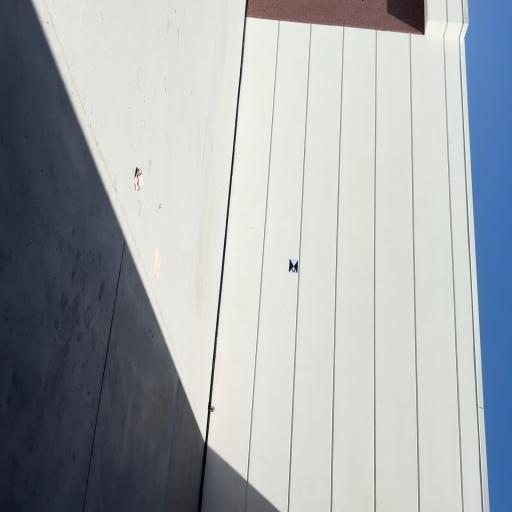target7: (289, 258, 299, 274)
